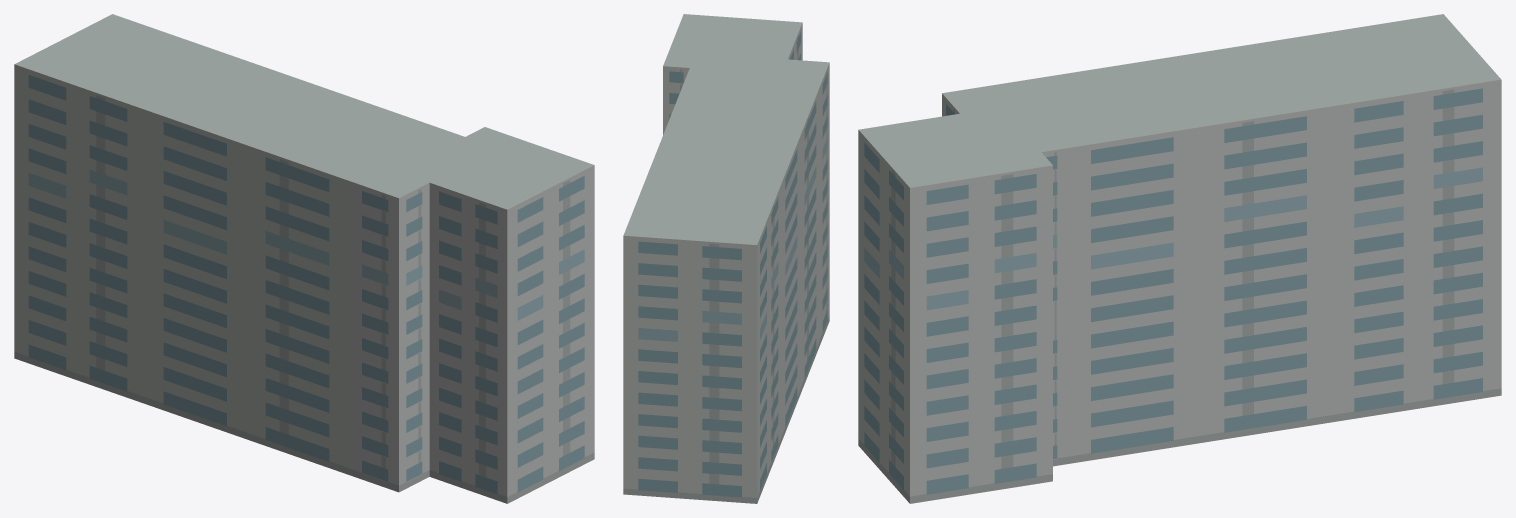
File: residential-54396678-d4fc-468f-b037-3966b7a9c903.glb
3 renders of one model, left to right at view 1: azimuth 30°, elevation 25°; view 2: azimuth 150°, elevation 25°; view 3: azimuth 270°, elevation 25°, orthographic. The views are drawn at different scales.
Visible parts, largest first — view 1: residential-54396678-d4fc-468f-b037-3966b7a9c903.tmp; view 2: residential-54396678-d4fc-468f-b037-3966b7a9c903.tmp; view 3: residential-54396678-d4fc-468f-b037-3966b7a9c903.tmp.
Part boxes in pixels (left/top/right/bottom): residential-54396678-d4fc-468f-b037-3966b7a9c903.tmp: left=14, top=14, right=594, bottom=503; residential-54396678-d4fc-468f-b037-3966b7a9c903.tmp: left=623, top=14, right=829, bottom=503; residential-54396678-d4fc-468f-b037-3966b7a9c903.tmp: left=858, top=14, right=1501, bottom=503.
Size of the model in its own units: 38.97 by 33 by 60.88.
